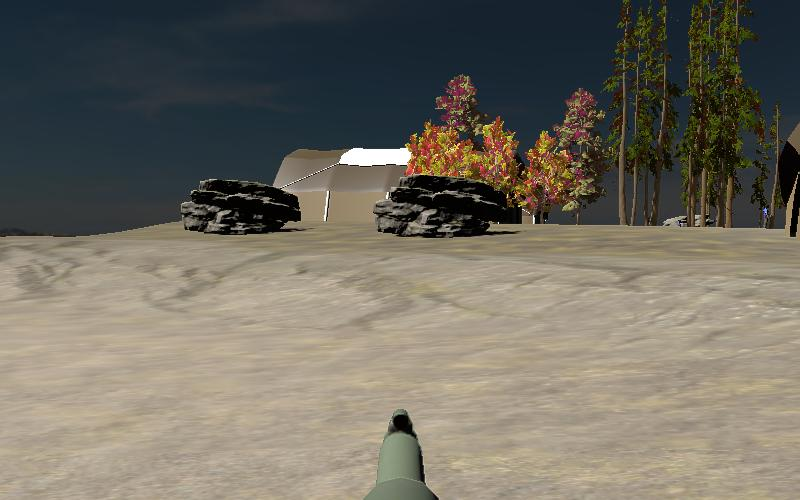House: (775, 108, 800, 247)
Human: (760, 204, 771, 231)
